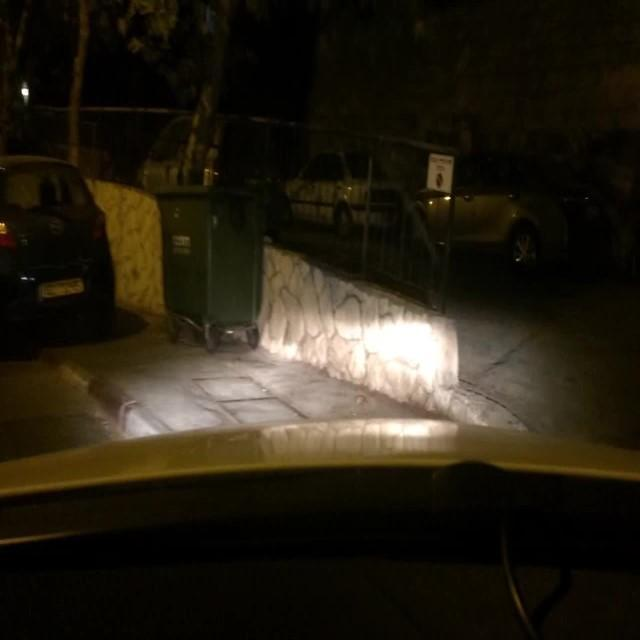normal: (0, 151, 114, 351)
